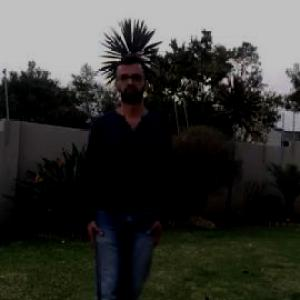follow: (79, 55, 170, 299)
